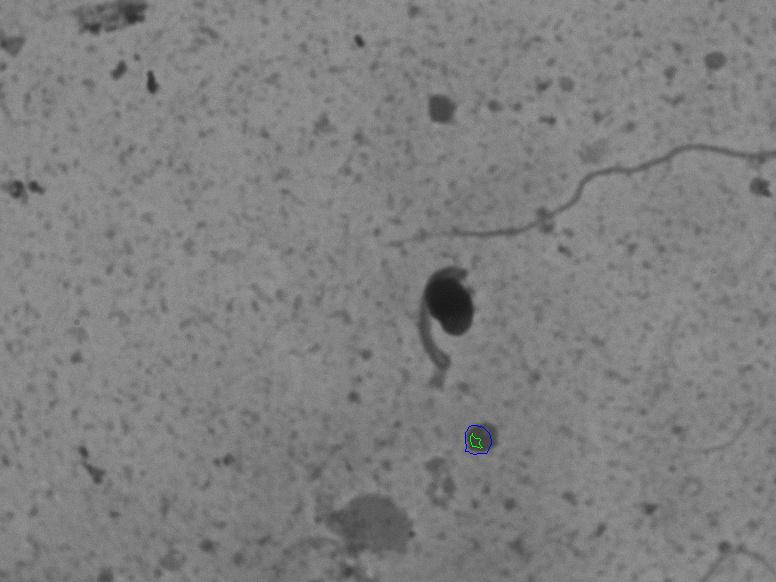Abnormal: (389, 252, 500, 391)
